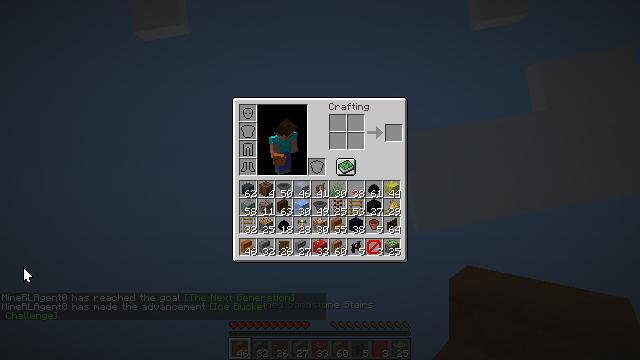cursor: (23, 267, 33, 283)
